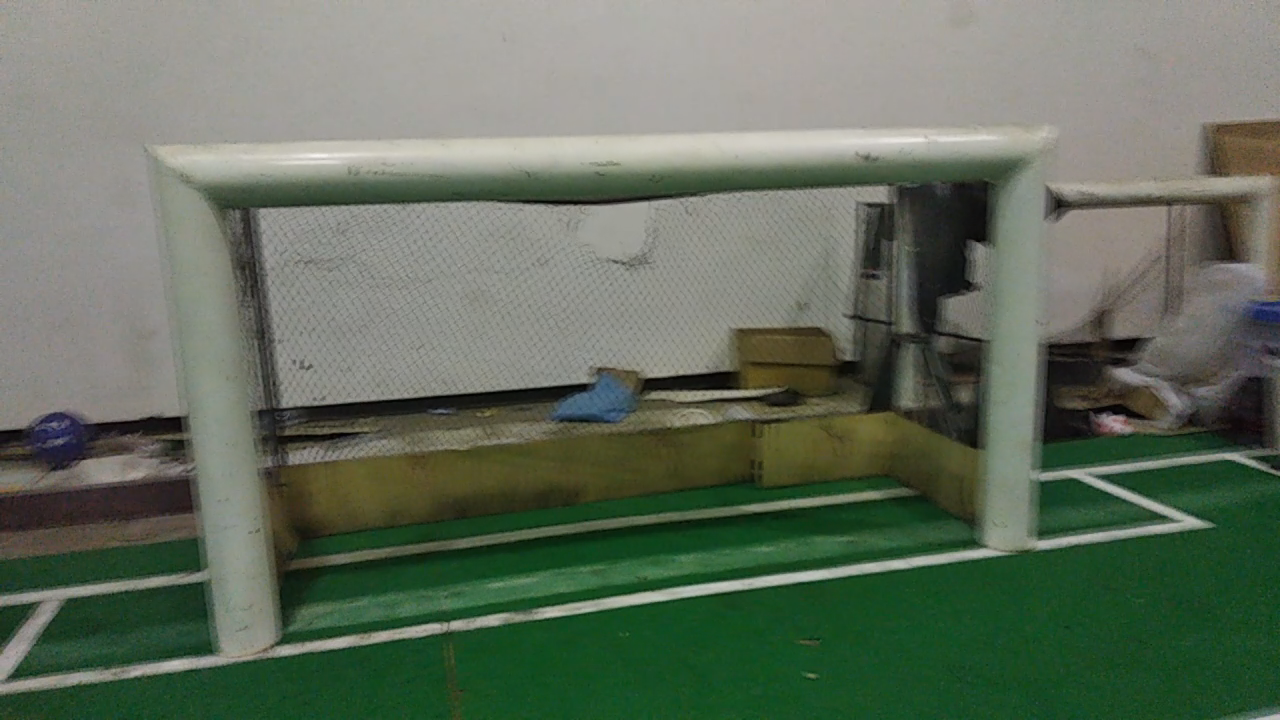gawang: (126, 109, 1067, 663)
